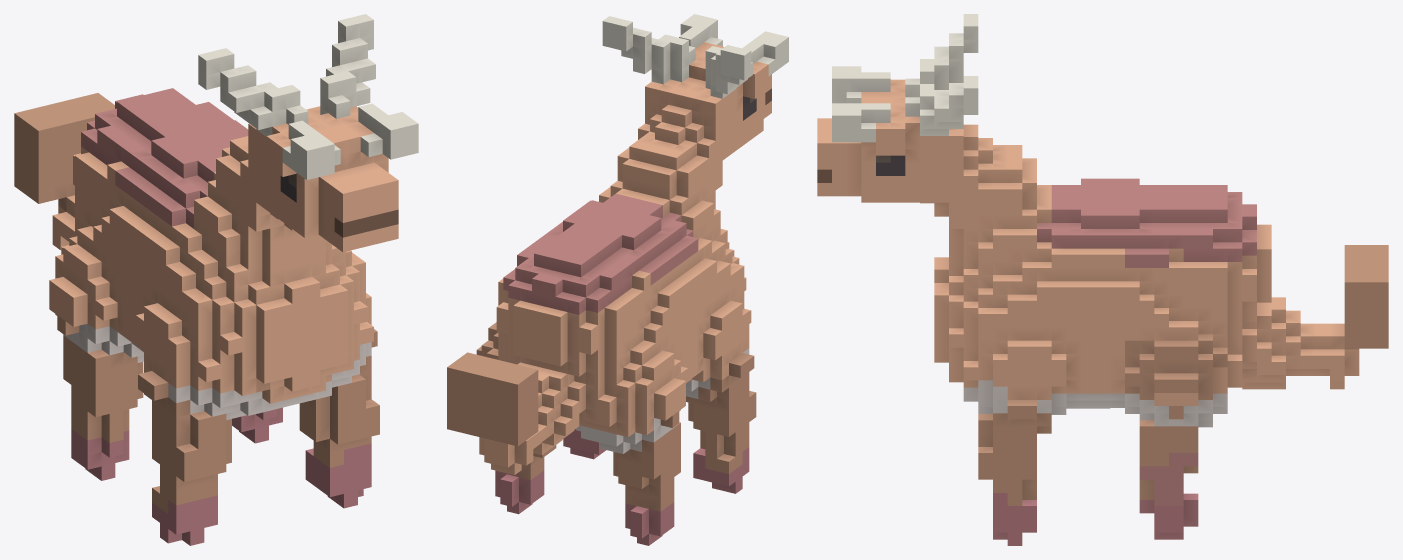
File: draconic-42-champion.glb
3 renders of one model, left to right at view 1: azimuth 30°, elevation 25°; view 2: azimuth 150°, elevation 25°; view 3: azimuth 270°, elevation 25°, orthographic. The views are drawn at different scales.
Visible parts, largest first — view 1: body, head, legFL, neck, legBL, legFR, tailTip, crownHornLeft, crownHornRight, hornRight, hornLeft, hornNubRight (+4 smaller); view 2: body, neck, tailTip, legFL, legBL, tail, head, crownHornRight, legBR, crownHornLeft, hornLeft, hornRight (+3 smaller); view 3: body, neck, head, tail, legFR, legBR, tailTip, crownHornRight, hornRight, crownHornLeft, hornLeft, browRight (+2 smaller).
Boxes of the visible parts, <box> form: body: <box>49,88,373,419</box>; head: <box>248,106,398,252</box>; legFL: <box>138,371,231,545</box>; neck: <box>194,116,331,272</box>; legBL: <box>57,315,143,480</box>; legFR: <box>299,329,379,508</box>; tailTip: <box>14,93,114,211</box>; crownHornLeft: <box>198,48,277,136</box>; crownHornRight: <box>326,14,375,106</box>; hornRight: <box>320,103,418,159</box>; hornLeft: <box>282,120,340,179</box>; hornNubRight: <box>320,71,356,118</box>; body: <box>476,193,751,453</box>; neck: <box>599,82,736,239</box>; tailTip: <box>447,352,538,446</box>; legFL: <box>686,353,756,493</box>; legBL: <box>613,411,680,545</box>; tail: <box>479,362,585,474</box>; head: <box>645,42,771,155</box>; crownHornRight: <box>602,16,670,84</box>; legBR: <box>495,445,556,514</box>; crownHornLeft: <box>710,45,752,98</box>; hornLeft: <box>705,31,788,89</box>; hornRight: <box>670,14,722,82</box>; body: <box>934,178,1271,427</box>; neck: <box>920,124,1051,274</box>; head: <box>817,85,963,202</box>; tail: <box>1242,297,1359,389</box>; legFR: <box>978,400,1051,545</box>; legBR: <box>1139,406,1198,539</box>; tailTip: <box>1344,245,1388,349</box>; crownHornRight: <box>920,76,978,135</box>; hornRight: <box>832,103,890,142</box>; crownHornLeft: <box>934,14,978,89</box>; hornLeft: <box>832,66,890,103</box>; browRight: <box>876,123,905,155</box>.
Bounding box in the file's own units: 0.72 × 1.53 × 1.76.
